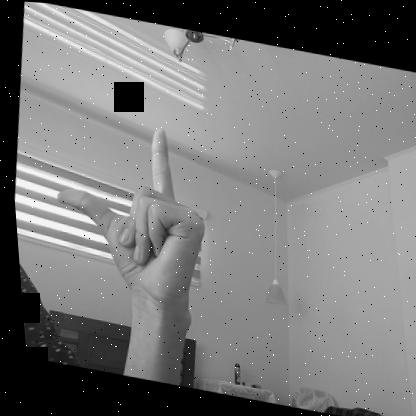L: (37, 105, 220, 312)
